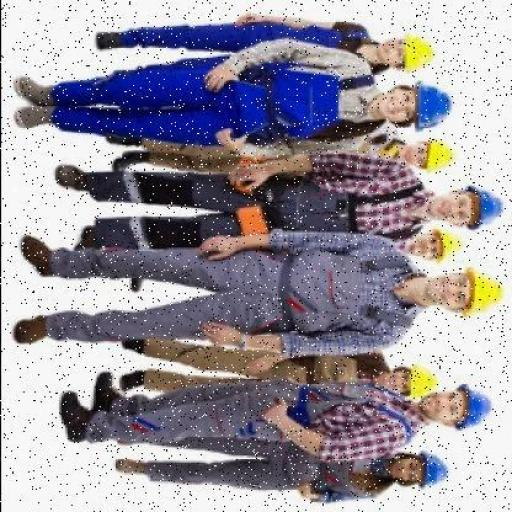person: (10, 230, 502, 352), (39, 154, 506, 253), (10, 60, 454, 150), (46, 376, 494, 450), (112, 433, 450, 504), (88, 18, 434, 76)
safety_shoe: (8, 310, 45, 352), (12, 103, 62, 133), (48, 162, 96, 192), (20, 233, 54, 272), (66, 222, 101, 257), (56, 390, 82, 436), (13, 80, 55, 105), (90, 369, 112, 414), (97, 132, 144, 150), (111, 152, 146, 174), (90, 30, 128, 49), (116, 372, 148, 394), (114, 462, 152, 477), (117, 340, 151, 354)
